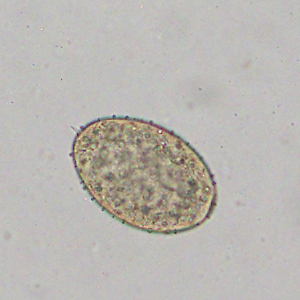Fasciola_hepatica_egg: (68, 113, 219, 236)
